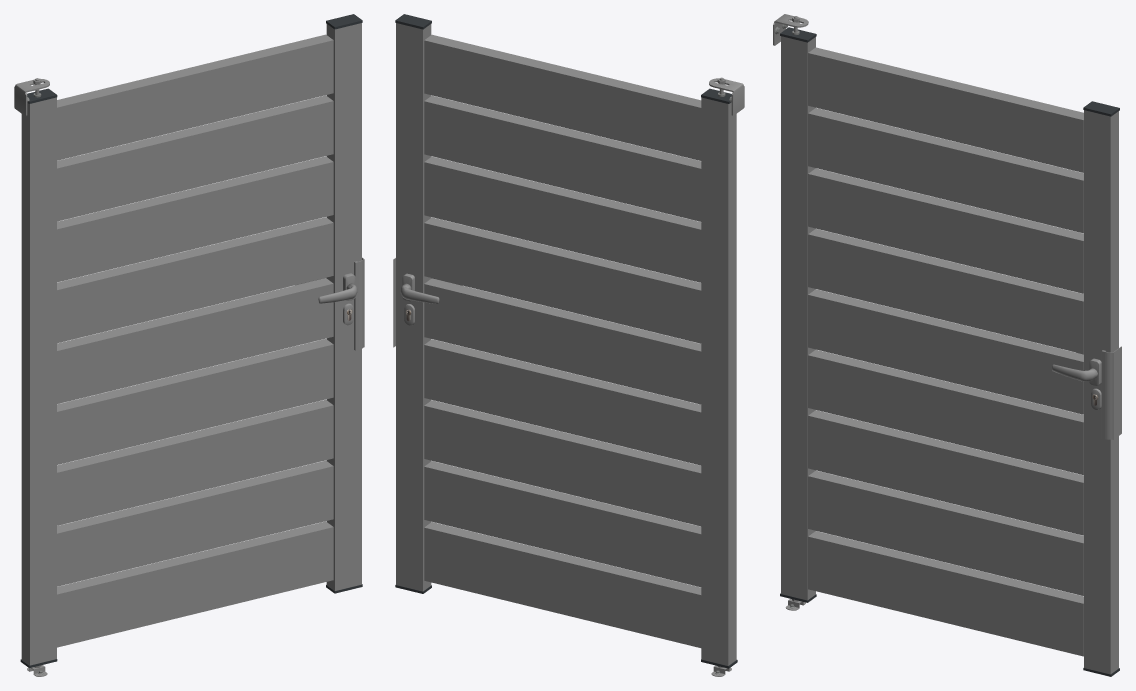
3 renders of one model, left to right at view 1: azimuth 30°, elevation 25°; view 2: azimuth 150°, elevation 25°; view 3: azimuth 330°, elevation 25°, orthographic.
Parts seen in each view (by area): view 1: Shape107412643, Shape197, Shape199, Shape191, Shape198, Shape193, Shape192, Shape194, Shape196, Shape195, Shape107412638, Shape107412637 (+1 smaller); view 2: Shape107412643, Shape194, Shape199, Shape196, Shape197, Shape193, Shape191, Shape198, Shape192, Shape195, Shape107412638, Rectangle057; view 3: Shape107412638, Shape199, Shape198, Shape193, Shape194, Shape197, Shape196, Shape191, Shape192, Shape195, Shape107412643, Shape107412637.
Part boxes in pixels (box(x1,y1,x2,y2)): Shape107412643: box(21, 97, 56, 665); Shape197: box(57, 156, 333, 282); Shape199: box(57, 34, 333, 160); Shape191: box(57, 521, 333, 647); Shape198: box(57, 95, 333, 221); Shape193: box(57, 399, 333, 525); Shape192: box(57, 460, 333, 586); Shape194: box(57, 339, 333, 464); Shape196: box(57, 217, 333, 343); Shape195: box(57, 278, 333, 403); Shape107412638: box(326, 23, 361, 590); Shape107412637: box(354, 257, 364, 350); Shape107412643: box(701, 97, 736, 665); Shape194: box(424, 339, 701, 465); Shape199: box(424, 34, 701, 160); Shape196: box(424, 217, 701, 343); Shape197: box(424, 156, 701, 282); Shape193: box(424, 400, 701, 526); Shape191: box(424, 522, 701, 647); Shape198: box(424, 95, 701, 221); Shape192: box(424, 461, 701, 587); Shape195: box(424, 278, 701, 404); Shape107412638: box(396, 23, 431, 591); Rectangle057: box(709, 78, 744, 115); Shape107412638: box(1084, 110, 1118, 674); Shape199: box(808, 47, 1083, 172); Shape198: box(808, 108, 1083, 233); Shape193: box(808, 410, 1083, 535); Shape194: box(808, 349, 1083, 474); Shape197: box(808, 168, 1083, 293); Shape196: box(808, 229, 1083, 354); Shape191: box(808, 531, 1083, 656); Shape192: box(808, 470, 1083, 595); Shape195: box(808, 289, 1083, 414); Shape107412643: box(781, 36, 815, 600); Shape107412637: box(1101, 346, 1121, 439).
Bounding box in the file's own units: 1015 × 1688 × 152.
Materials: 7 (4 with a texture image).
